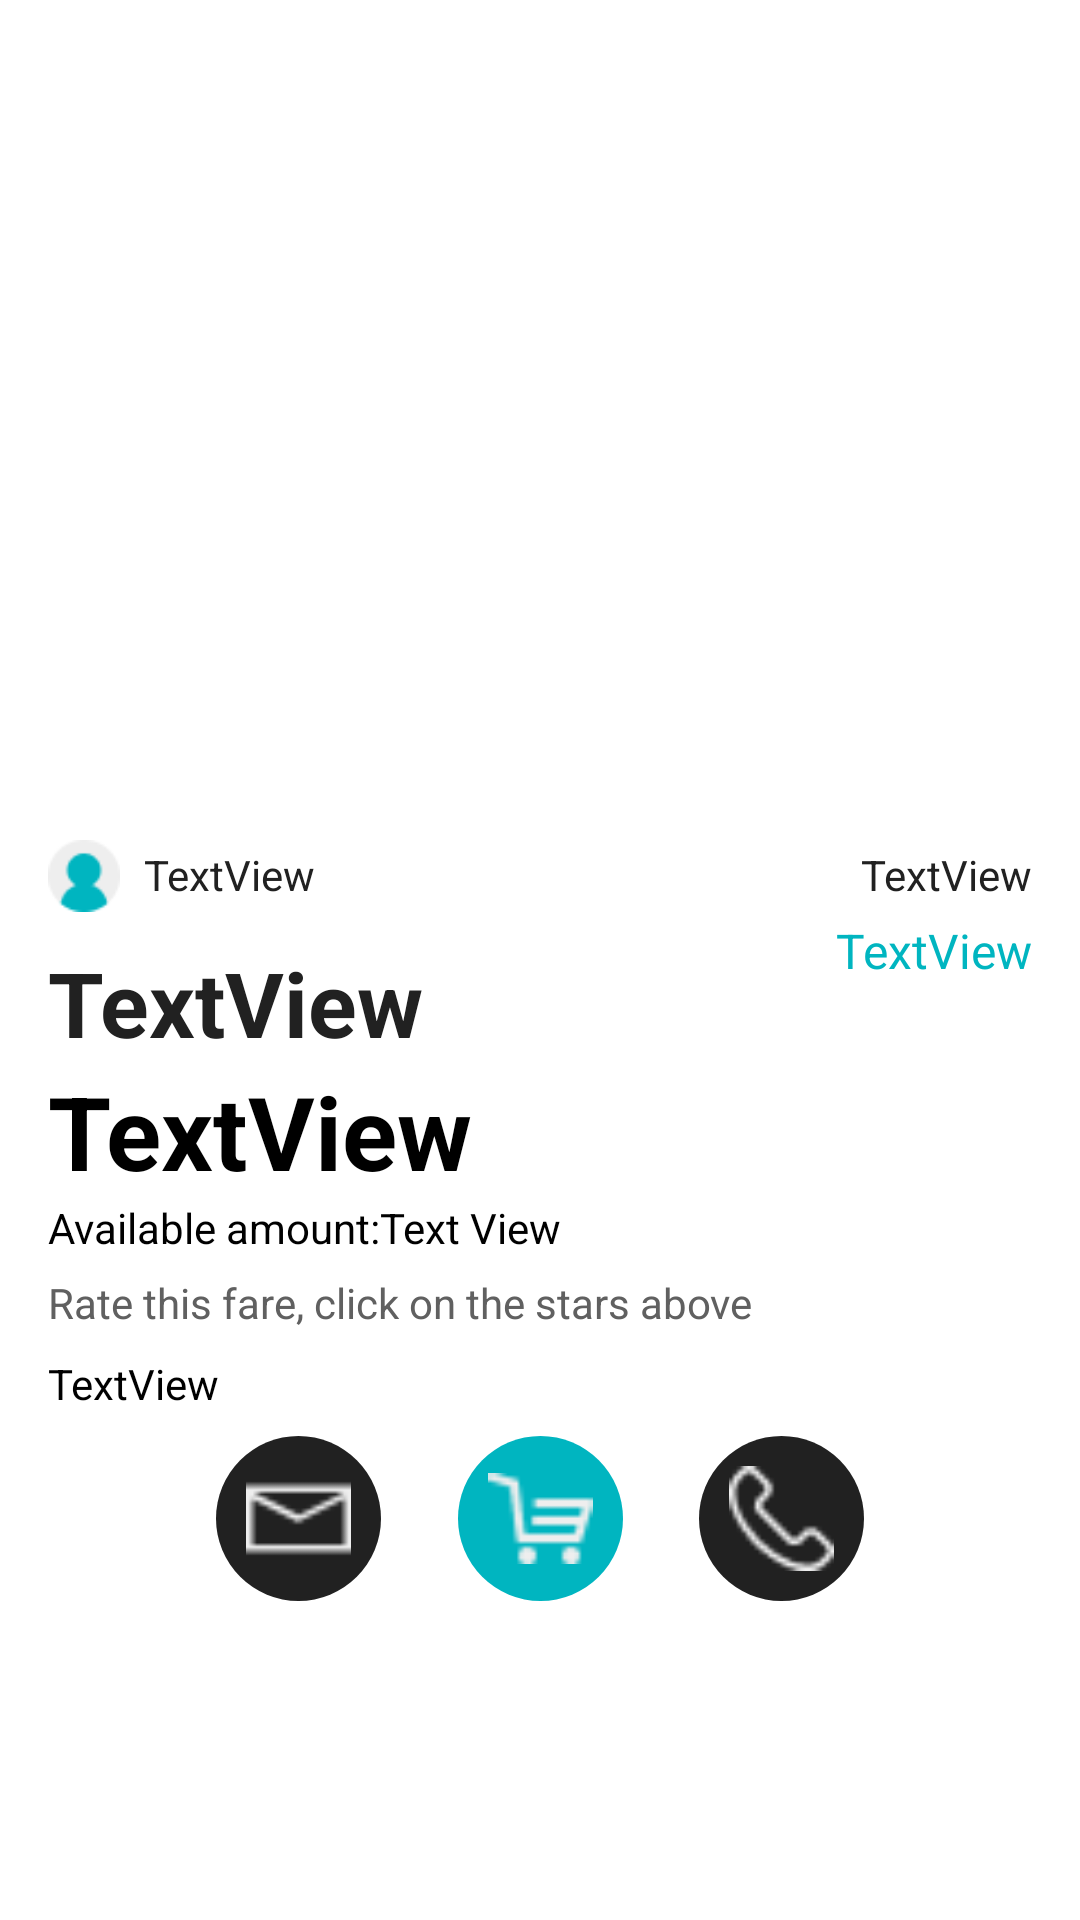

Where icons sit on this 1080 x 1920 app screen, as (x1, y1, x2, y2):
mail: (216, 1436, 381, 1601)
market: (458, 1436, 623, 1601)
phone: (699, 1436, 864, 1601)
